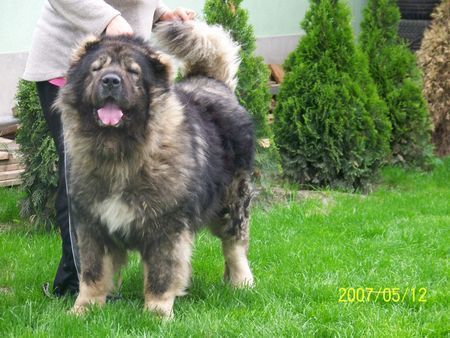cau_ovcharka: (50, 13, 257, 325)
person: (21, 0, 197, 298)
